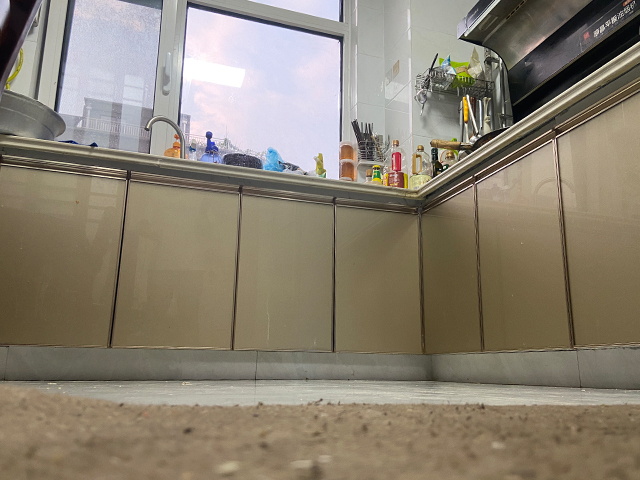cabinet: (1, 145, 420, 385), (421, 84, 640, 388)
carpet: (1, 385, 640, 480)
